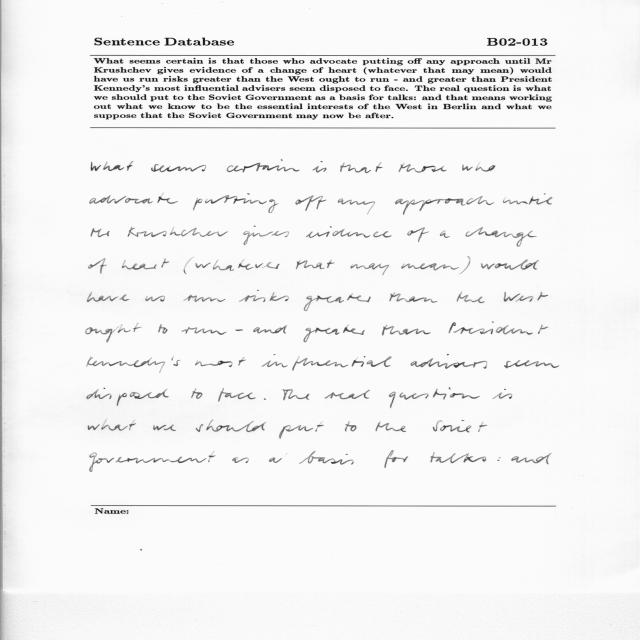word: (90, 452, 215, 472), (262, 354, 392, 371), (395, 196, 494, 215), (389, 388, 480, 408), (193, 194, 279, 213), (87, 356, 180, 373), (87, 388, 169, 406), (466, 227, 537, 247), (449, 322, 549, 335), (411, 354, 487, 369), (304, 294, 371, 311), (86, 323, 142, 342), (303, 325, 365, 342), (306, 226, 392, 238), (195, 259, 280, 271), (127, 227, 228, 237), (227, 160, 300, 173), (243, 226, 289, 245), (196, 420, 266, 432), (90, 195, 178, 204), (299, 451, 354, 465), (433, 420, 487, 432), (481, 259, 539, 270), (279, 425, 324, 439), (430, 452, 486, 463), (239, 290, 289, 302), (338, 199, 375, 215), (503, 194, 552, 205), (218, 388, 256, 402), (122, 259, 169, 270), (195, 357, 246, 367), (296, 195, 327, 211), (382, 325, 431, 335), (390, 293, 438, 303), (350, 263, 389, 275), (511, 453, 552, 464), (151, 164, 206, 172), (504, 292, 548, 302), (504, 360, 559, 368), (399, 164, 447, 173), (340, 163, 383, 173), (91, 161, 133, 171), (88, 292, 130, 302), (324, 390, 370, 399), (385, 451, 409, 468), (401, 263, 459, 270), (88, 423, 136, 431), (182, 327, 227, 335), (296, 260, 335, 269), (184, 294, 226, 302), (407, 227, 429, 242), (375, 422, 406, 432), (457, 292, 485, 303), (253, 325, 287, 334), (283, 389, 310, 400), (89, 258, 107, 274), (462, 165, 496, 172), (493, 389, 513, 399), (459, 257, 470, 274), (91, 228, 110, 237), (313, 161, 327, 172), (153, 425, 176, 431), (191, 388, 203, 399), (345, 421, 356, 432), (145, 296, 165, 302), (232, 457, 249, 463), (158, 324, 168, 334), (269, 457, 282, 463), (440, 231, 450, 238), (184, 265, 187, 275), (236, 329, 243, 331), (498, 457, 501, 461), (264, 398, 266, 400)
